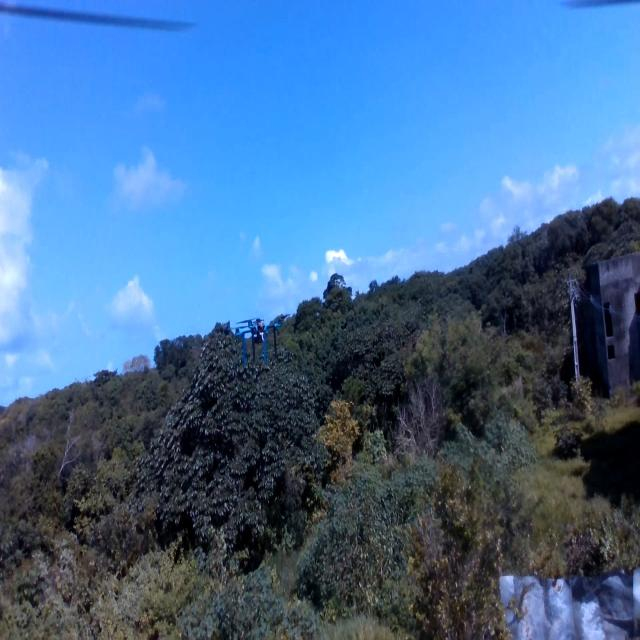-uav-: (228, 314, 284, 367)
